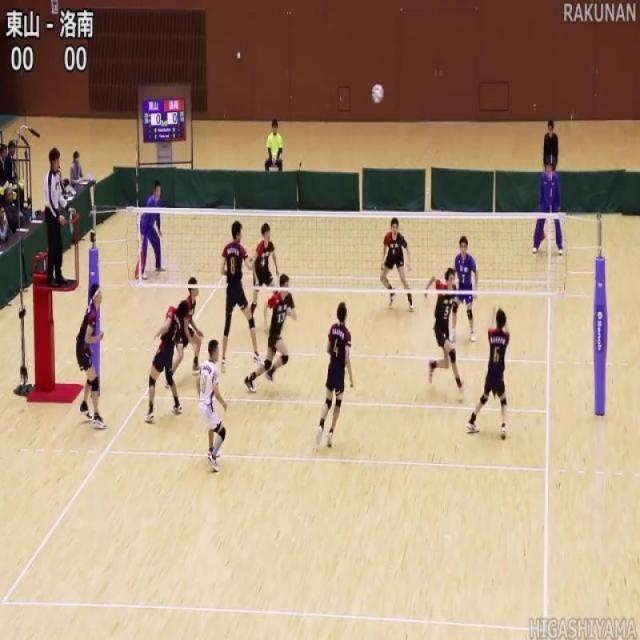volleyball: (370, 82, 386, 106)
